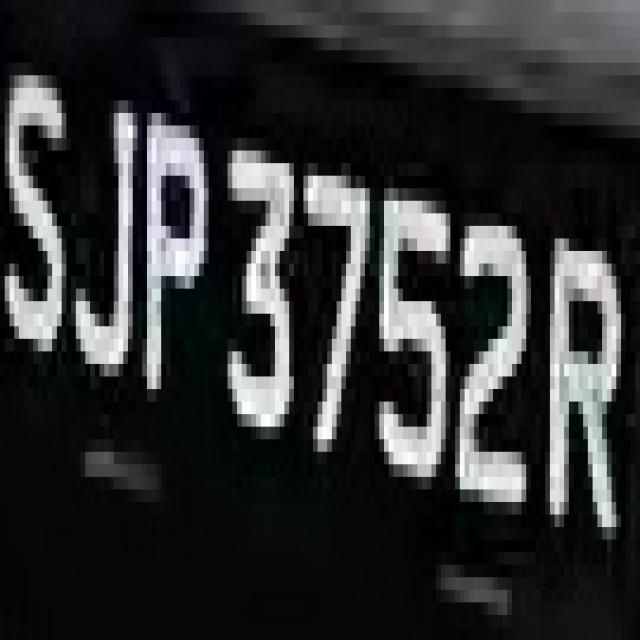2: (451, 200, 526, 540)
3: (218, 138, 303, 427)
5: (370, 163, 455, 490)
7: (289, 138, 375, 477)
J: (66, 38, 133, 376)
P: (133, 88, 213, 389)
R: (531, 213, 621, 590)
S: (5, 25, 71, 389)
